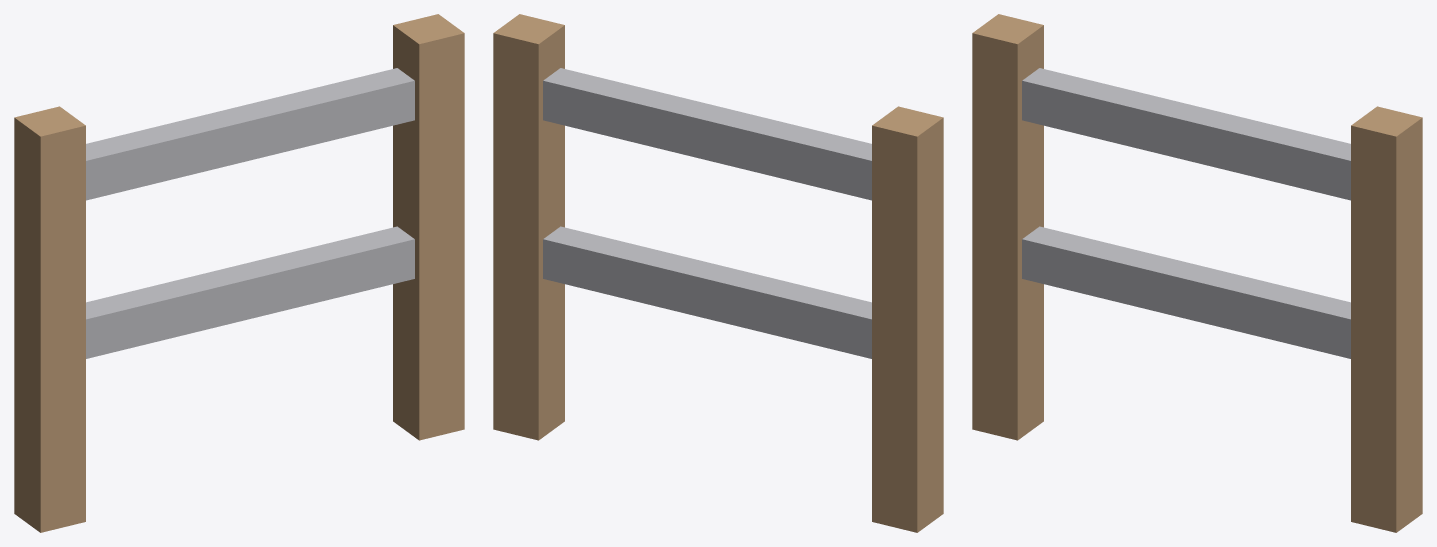
The model's file is Prop_DS_Fence_Gate_12.glb.
3 renders of one model, left to right at view 1: azimuth 30°, elevation 25°; view 2: azimuth 150°, elevation 25°; view 3: azimuth 330°, elevation 25°, orthographic.
Visible parts, largest first — view 1: Cube, Cube.001, Cube.003, Cube.002; view 2: Cube, Cube.001, Cube.003, Cube.002; view 3: Cube.001, Cube, Cube.003, Cube.002.
Boxes of the visible parts, left/top/right/bottom form: Cube: left=14, top=106, right=85, bottom=532; Cube.001: left=393, top=14, right=464, bottom=440; Cube.003: left=86, top=68, right=414, bottom=200; Cube.002: left=86, top=226, right=414, bottom=358; Cube: left=872, top=106, right=943, bottom=532; Cube.001: left=493, top=14, right=564, bottom=440; Cube.003: left=543, top=68, right=871, bottom=200; Cube.002: left=543, top=226, right=871, bottom=358; Cube.001: left=1351, top=106, right=1422, bottom=532; Cube: left=972, top=14, right=1043, bottom=440; Cube.003: left=1022, top=68, right=1350, bottom=200; Cube.002: left=1022, top=226, right=1350, bottom=358.
Bounding box in the file's own units: 1.12 × 1 × 0.12.
